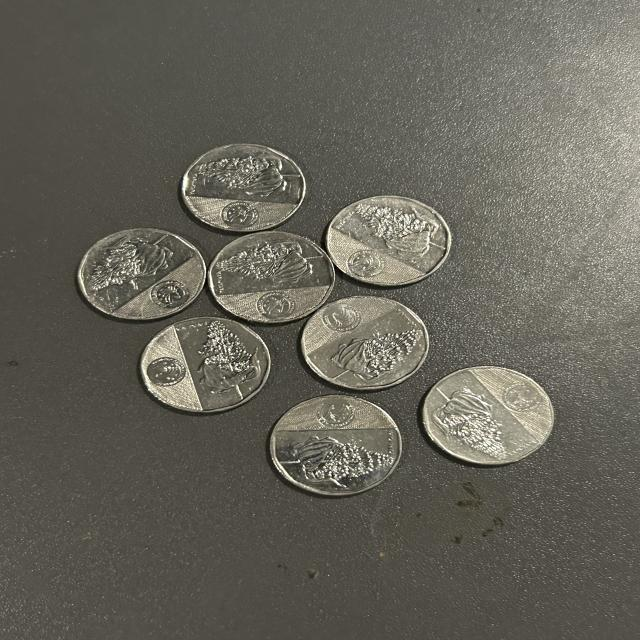10_New_Back: (188, 148, 303, 222), (220, 246, 343, 314), (436, 381, 552, 452), (338, 200, 434, 281), (307, 317, 419, 386), (97, 228, 195, 304), (286, 411, 394, 479), (158, 334, 264, 398)
